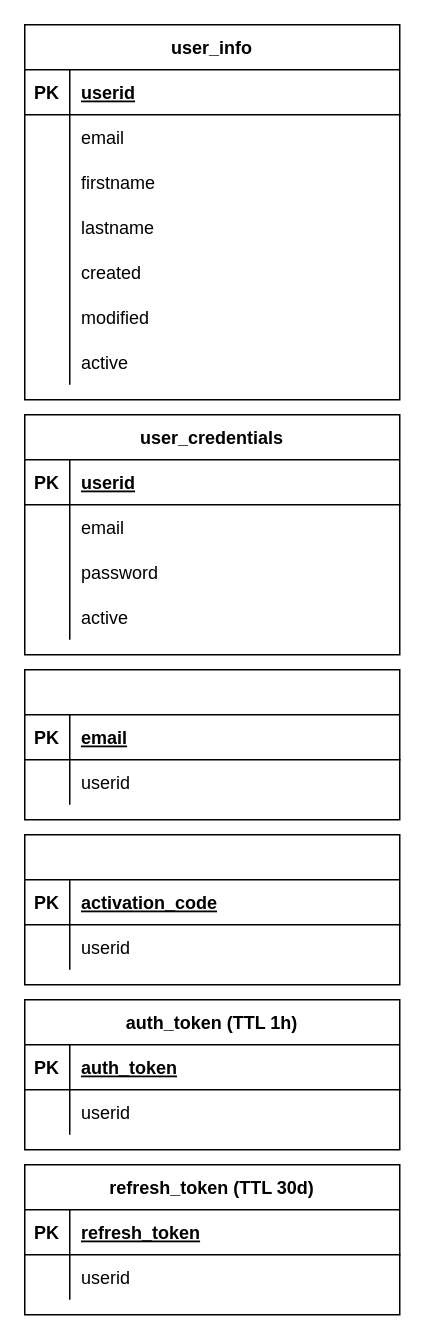
The diagram is 425 pixels wide and 1340 high, and some of its shapes have lost their labels. The shapes that lost their labels are listed below. From the top down, each one's box as (x1, y1, x2, y2) in pixels, then its label:
(23, 668, 400, 820): email_map
(23, 833, 400, 985): activation (TTL)
